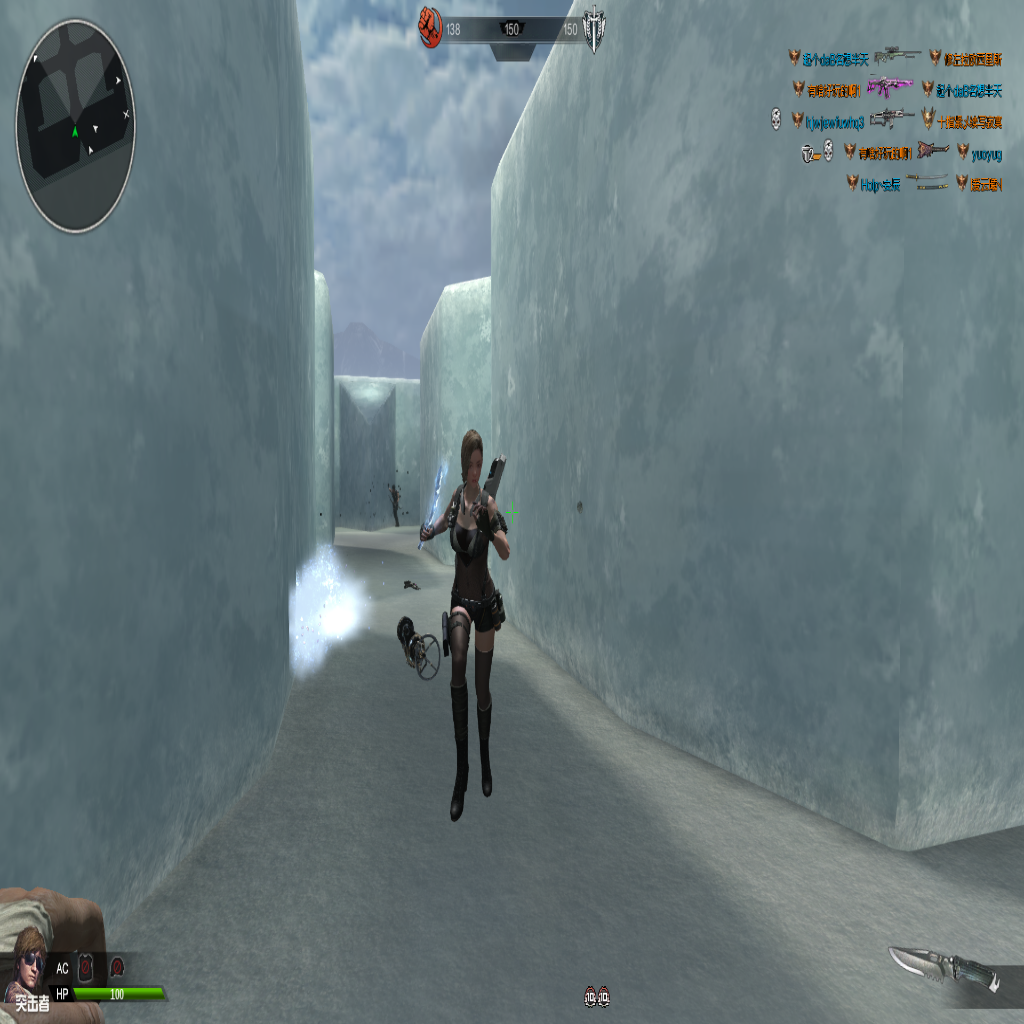ct: (442, 431, 508, 826)
